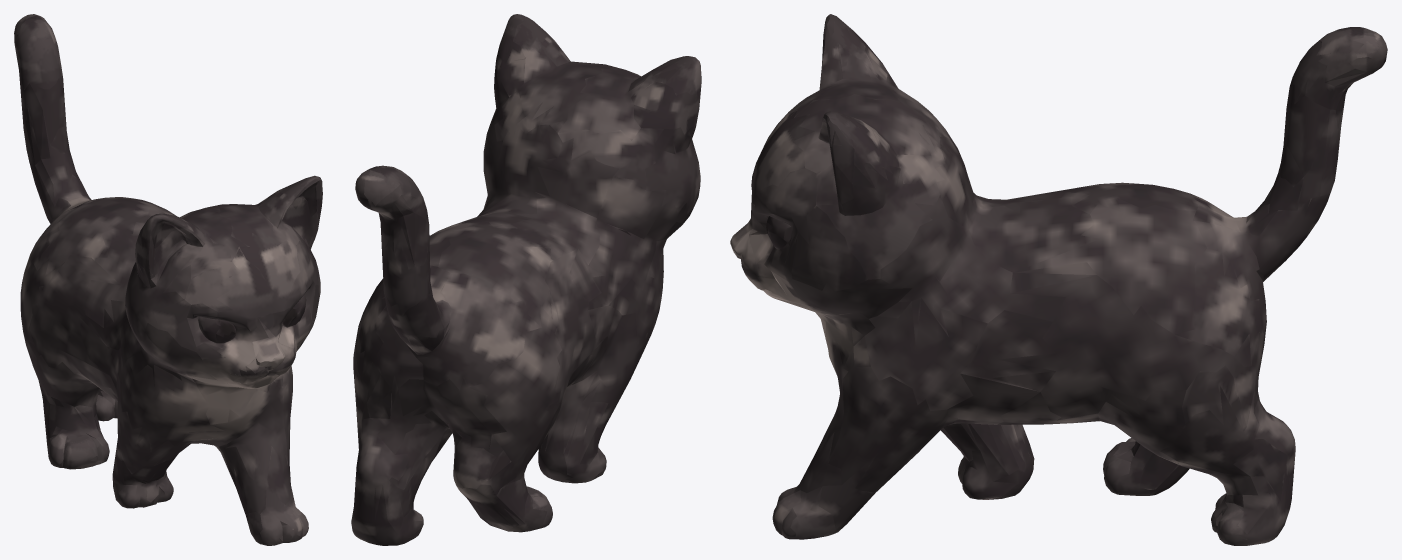
The model's file is cat.glb.
The picture shows the model from 3 angles, left to right: view 1: azimuth 30°, elevation 25°; view 2: azimuth 150°, elevation 25°; view 3: azimuth 270°, elevation 25°; orthographic projection. The views are drawn at different scales.
Size of the model in its own units: 0.776 by 1.52 by 1.9.
Materials: 1 (1 with a texture image).
